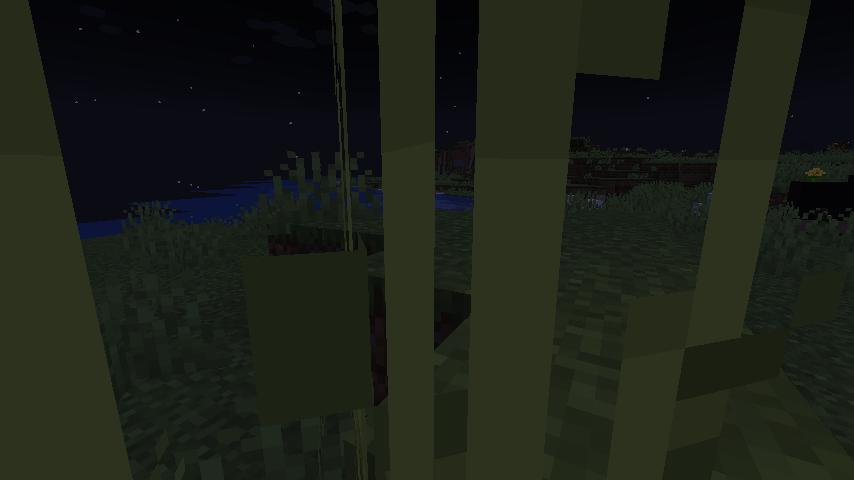sheep: (782, 175, 854, 238)
